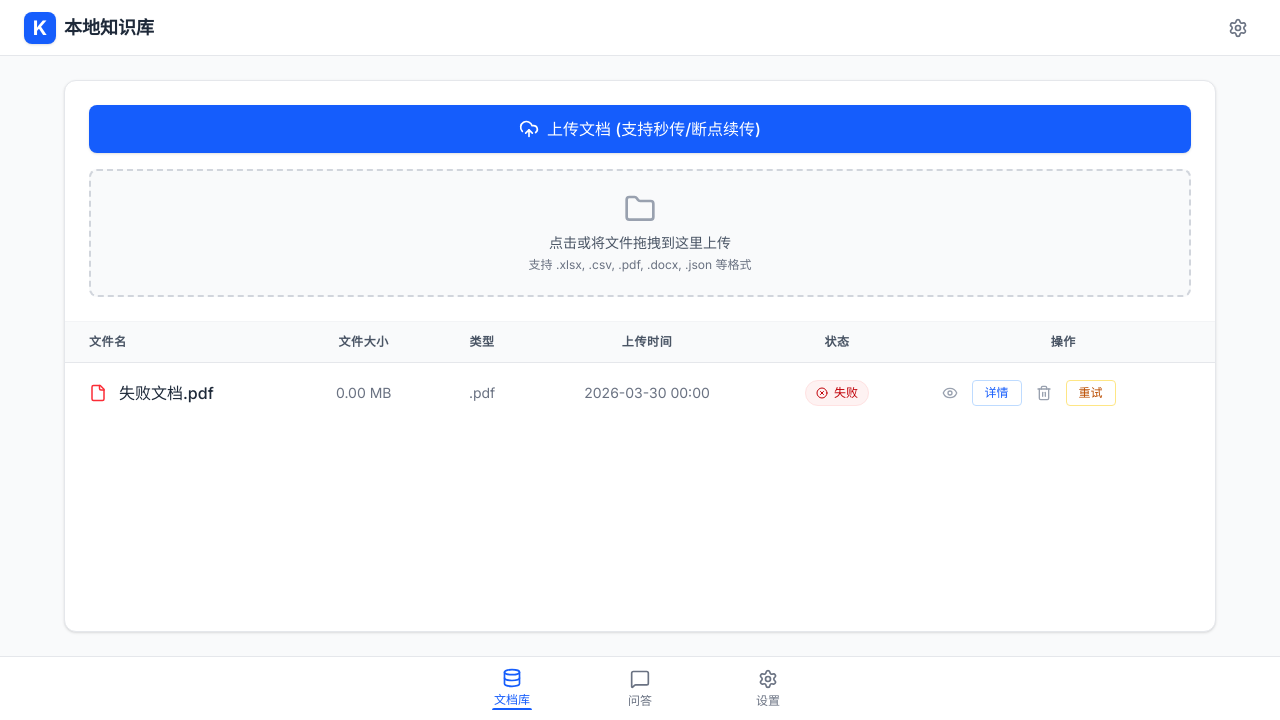
App › shows three independent settings cards and toolbar actions
Click the button "设置". click: (768, 688)
box: [728, 668, 808, 708]
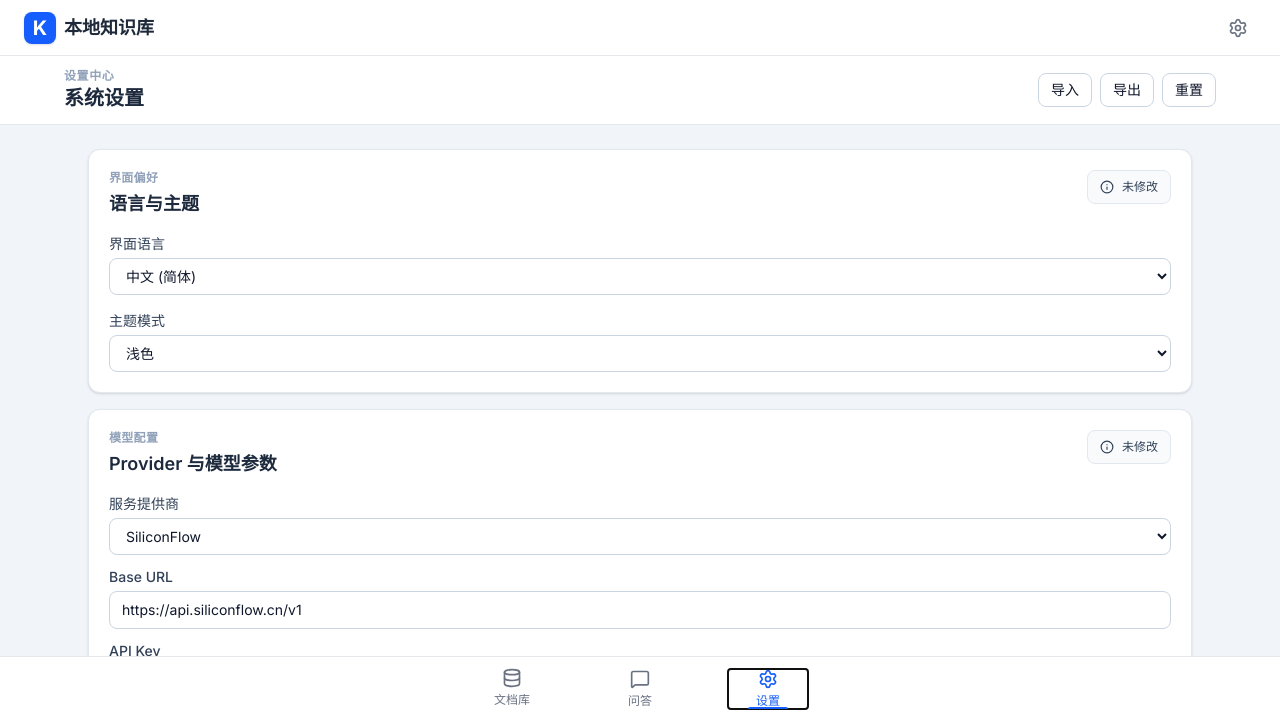
Expected: the element with test id "settings-card-ui" is shown, [88, 149, 1192, 393]
Expected: the button "导入" is shown, [1038, 73, 1092, 107]
Expected: the button "导出" is shown, [1100, 73, 1154, 107]
